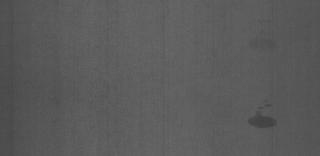oil spot: (244, 100, 286, 132)
